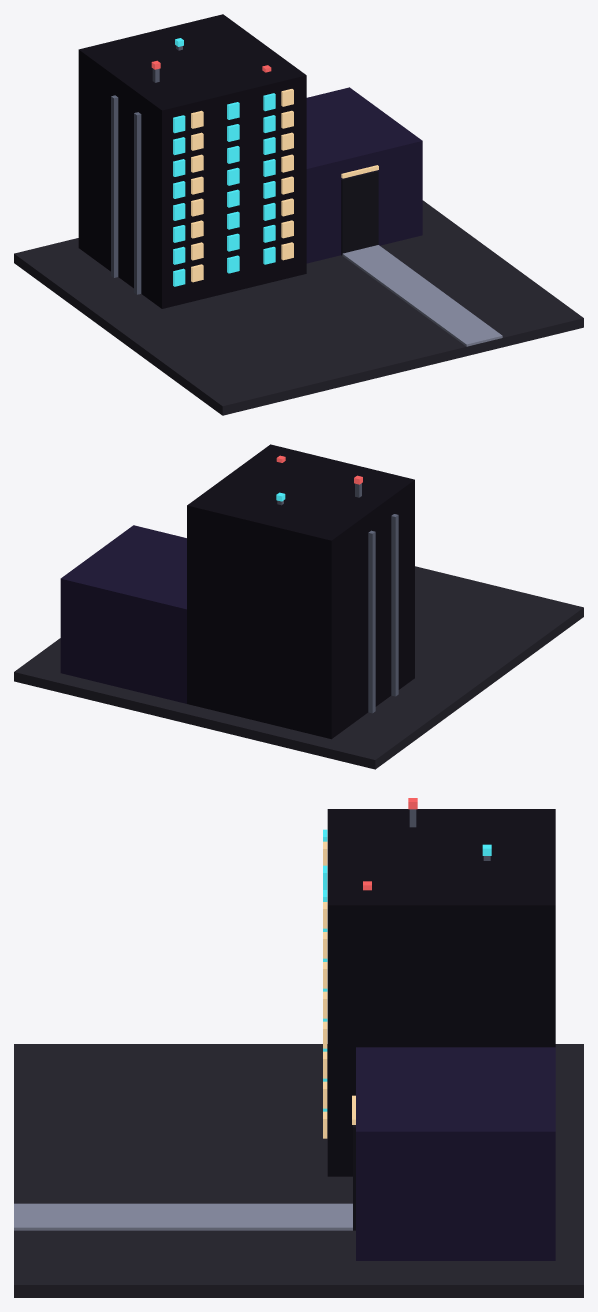
The model's file is plot.glb.
3 renders of one model, top to bottom at view 1: azimuth 30°, elevation 25°; view 2: azimuth 150°, elevation 25°; view 3: azimuth 270°, elevation 25°, orthographic. The views are drawn at different scales.
Parts seen in each view (by area): view 1: tower_structure, tower_emissive; view 2: tower_structure; view 3: tower_structure, tower_emissive.
Part boxes in pixels (x1,y1,x2,y2): tower_structure: (14,14,583,415); tower_emissive: (151,38,378,286); tower_structure: (14,444,583,769); tower_structure: (14,809,583,1297); tower_emissive: (323,798,491,1138).
Bounding box in the file's own units: 10 × 6 × 10.
2 materials, 2 textured.
